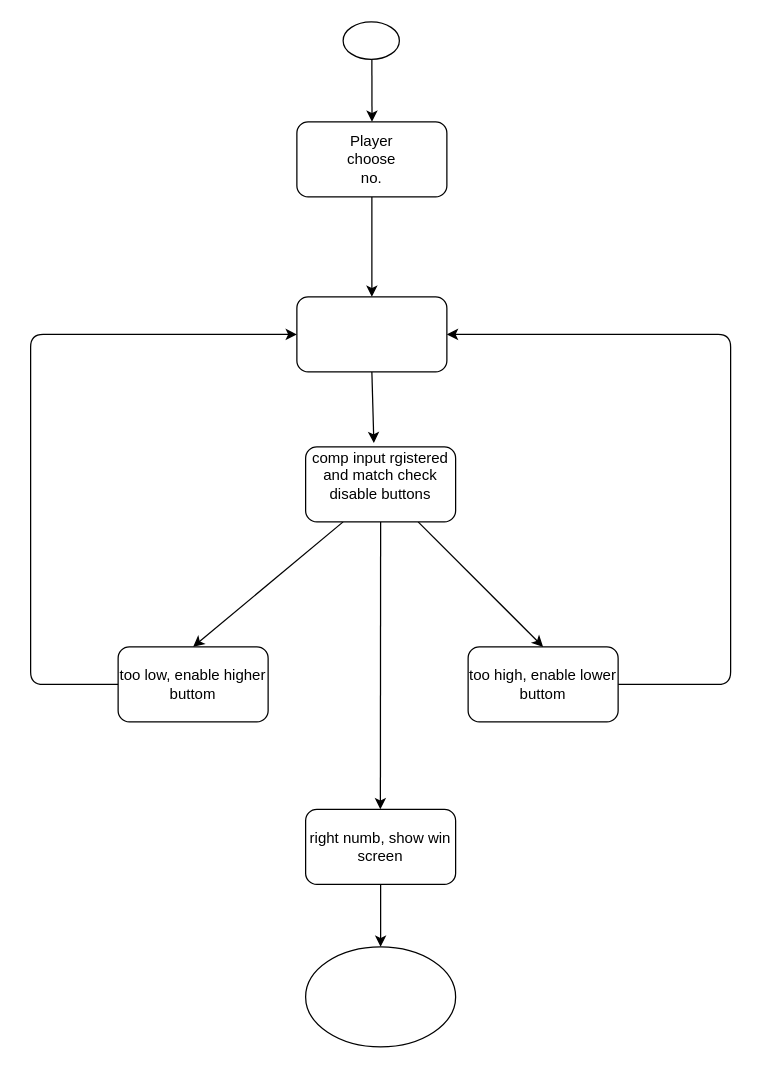
The diagram is 763 pixels wide and 1069 high, and some of its shapes have lost their labels. The centre of each missing label's shape, as x and y in pixels:
"END" goes at (380,996).
"input lock and comp guess" goes at (371,334).
"START" goes at (370,40).
